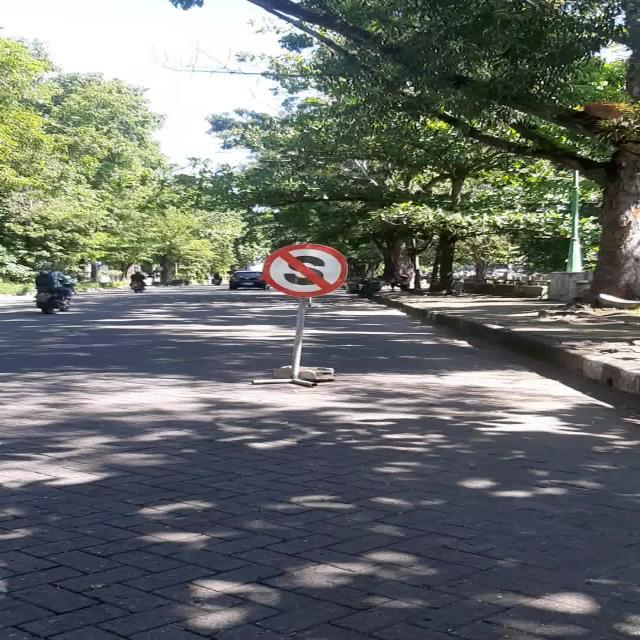Dilarang Berhenti: (264, 243, 348, 297)
